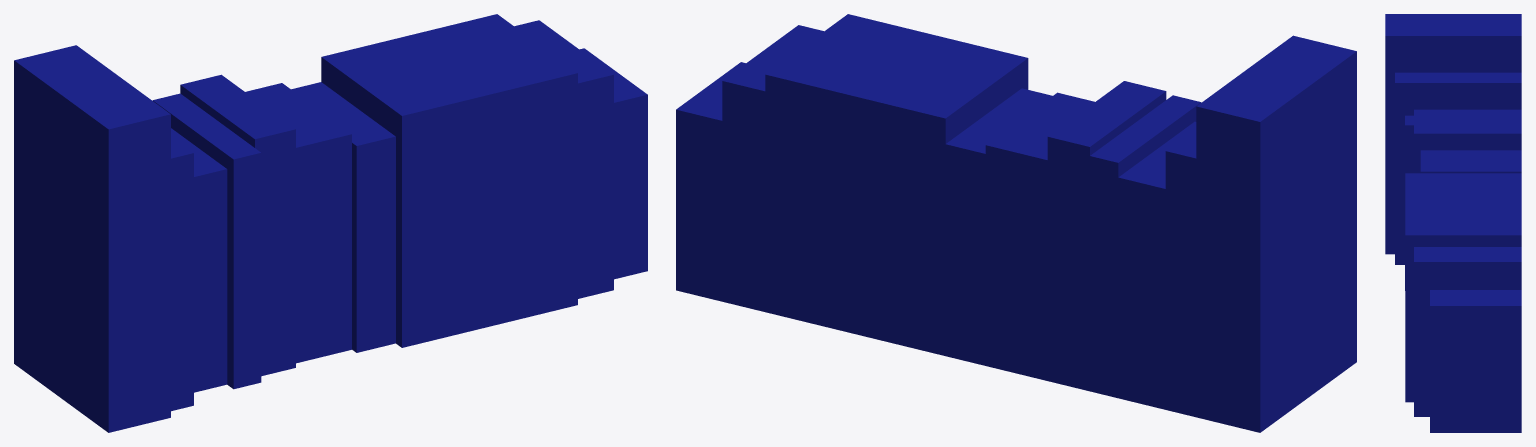
Rendered from SM_BookBlocs_04.fbx.
The picture shows the model from 3 angles, left to right: view 1: azimuth 30°, elevation 25°; view 2: azimuth 150°, elevation 25°; view 3: azimuth 270°, elevation 25°; orthographic projection. The views are drawn at different scales.
Parts seen in each view (by area): view 1: SM_Books_Small; view 2: SM_Books_Small; view 3: SM_Books_Small.
Boxes of the visible parts, bbox=[...] form: SM_Books_Small: bbox=[14, 14, 647, 432]; SM_Books_Small: bbox=[676, 14, 1356, 432]; SM_Books_Small: bbox=[1385, 14, 1521, 432].
Bounding box in the file's own units: 99.85 × 50.79 × 28.64.
